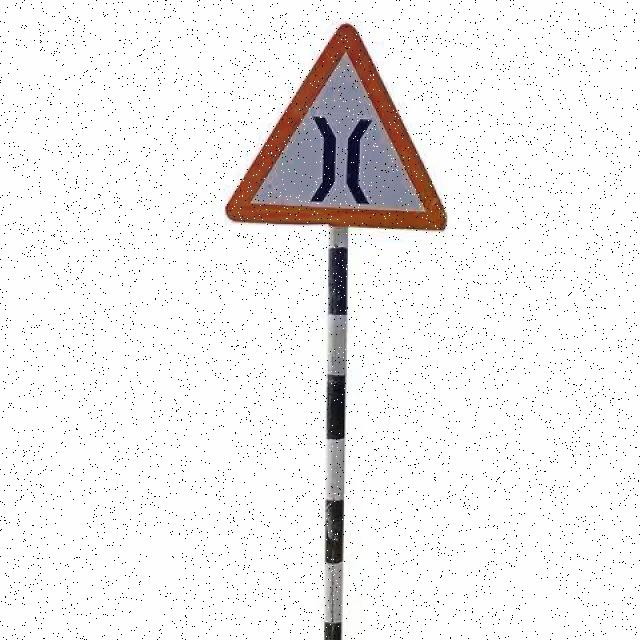Narrow_Bridge: (225, 19, 445, 217)
